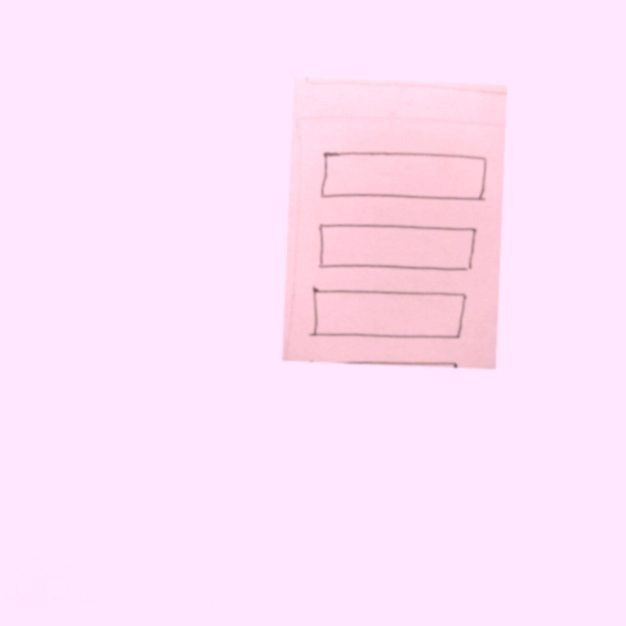text_input: (306, 281, 469, 346), (316, 147, 493, 206), (311, 219, 481, 276)
